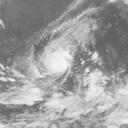cyclone: (42, 34, 73, 79)
